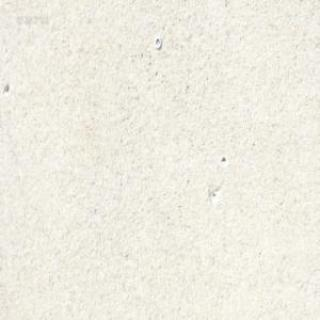Washertrack_idkeyframe: (154, 35, 160, 49)
